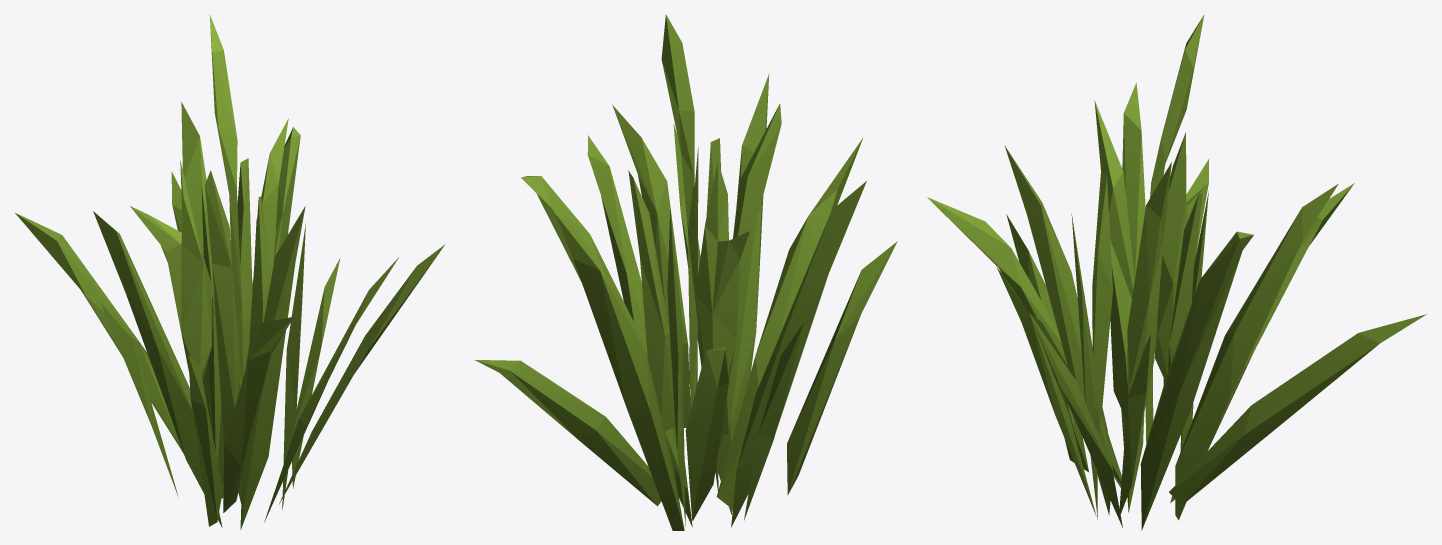
Rendered from ZLP_Grass_A_13.FBX.
3 renders of one model, left to right at view 1: azimuth 30°, elevation 25°; view 2: azimuth 150°, elevation 25°; view 3: azimuth 270°, elevation 25°, orthographic. The views are drawn at different scales.
Parts seen in each view (by area): view 1: ZLP_Grass_A_13; view 2: ZLP_Grass_A_13; view 3: ZLP_Grass_A_13.
Boxes of the visible parts, bbox=[...] form: ZLP_Grass_A_13: bbox=[15, 14, 445, 529]; ZLP_Grass_A_13: bbox=[475, 14, 897, 530]; ZLP_Grass_A_13: bbox=[927, 15, 1426, 530].
Size of the model in its own units: 77.8 by 120 by 106.
